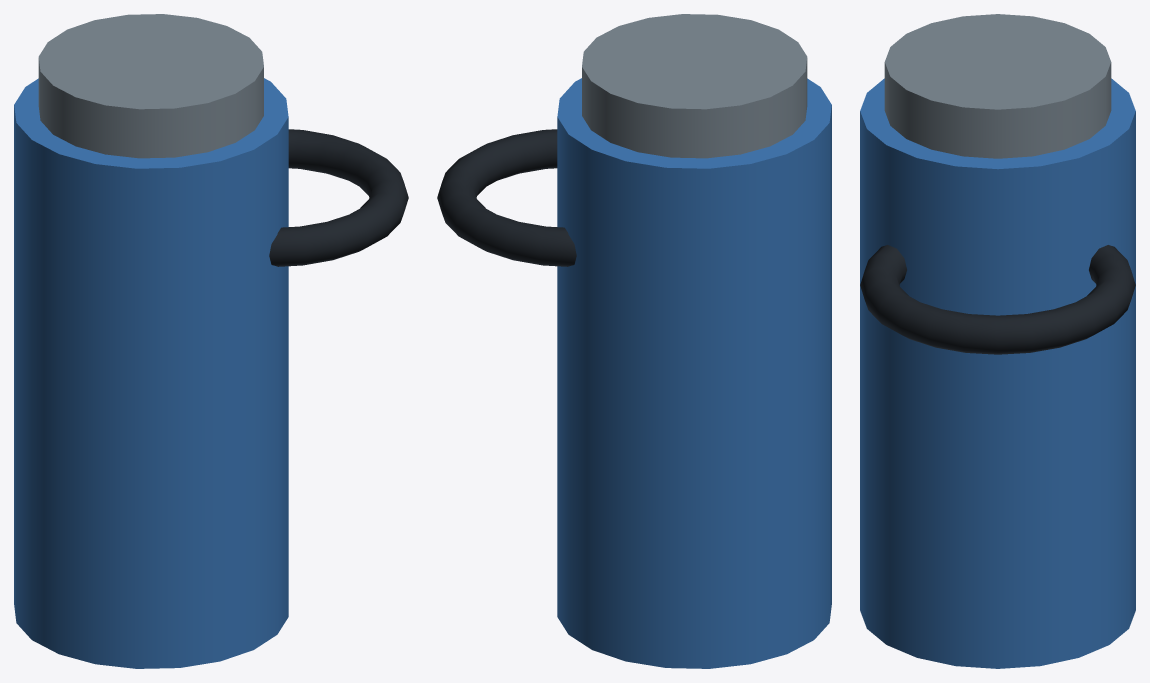
Rendered from thermos.glb.
3 renders of one model, left to right at view 1: azimuth 30°, elevation 25°; view 2: azimuth 150°, elevation 25°; view 3: azimuth 270°, elevation 25°, orthographic.
Bounding box in the file's own units: 0.84 × 1.23 × 0.56.
